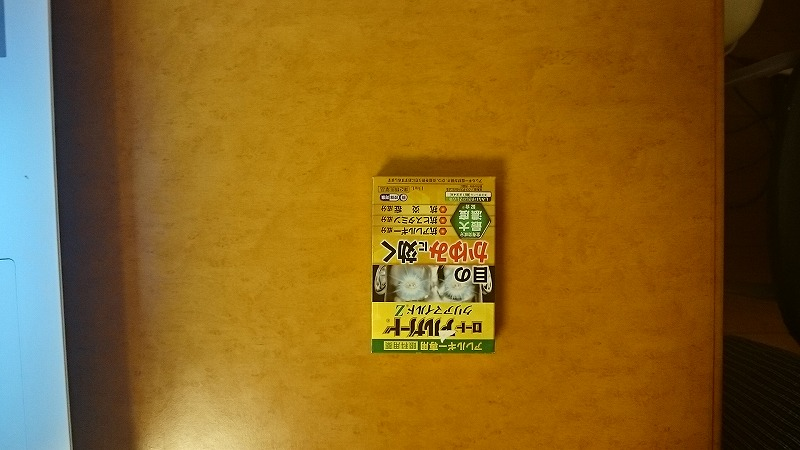C: (366, 173, 500, 360)
